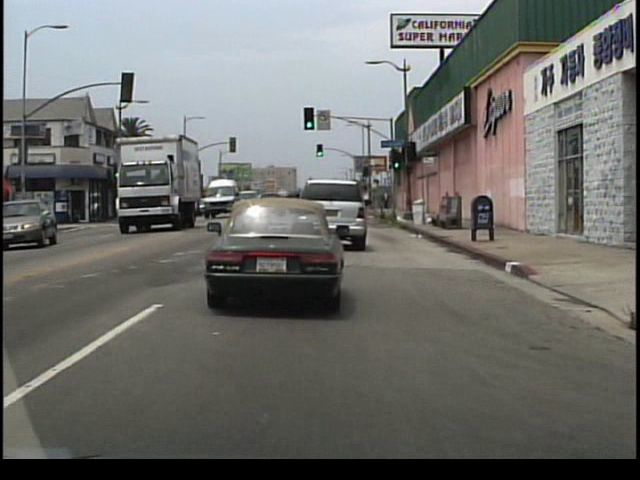person: (39, 200, 50, 230), (381, 188, 390, 209)
